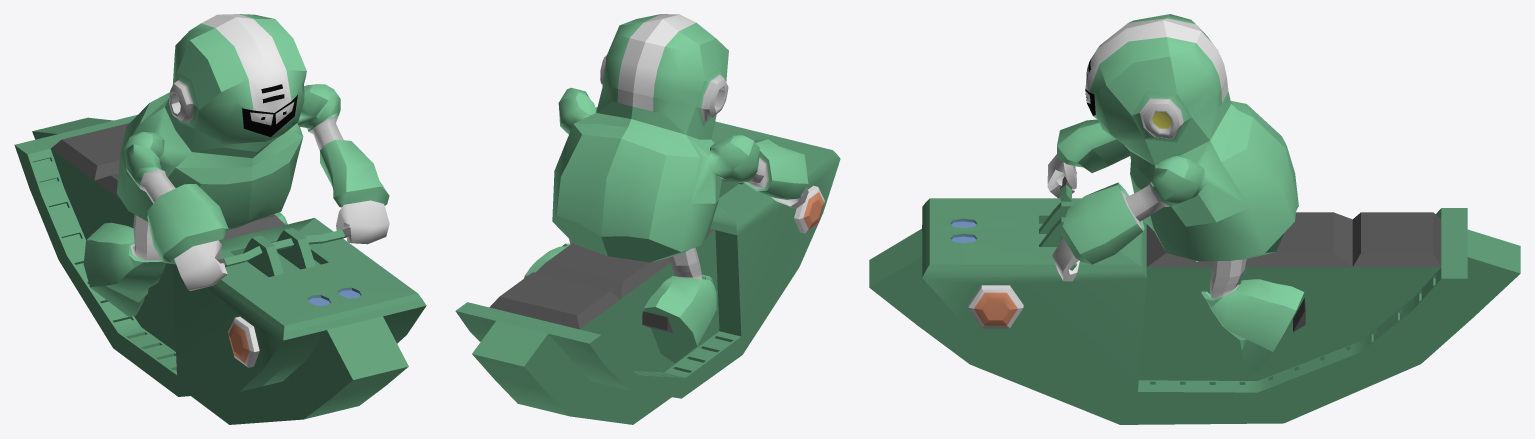
File: Enemy_00.fbx
3 renders of one model, left to right at view 1: azimuth 30°, elevation 25°; view 2: azimuth 150°, elevation 25°; view 3: azimuth 270°, elevation 25°, orthographic. The views are drawn at different scales.
Parts seen in each view (by area): view 1: pCylinder3; view 2: pCylinder3; view 3: pCylinder3.
Part boxes in pixels (box(x1,y1,x2,y2)): pCylinder3: box(14, 14, 426, 424); pCylinder3: box(455, 14, 840, 424); pCylinder3: box(869, 14, 1520, 424).
Bounding box in the file's own units: 3.76 × 6.1 × 9.22.
